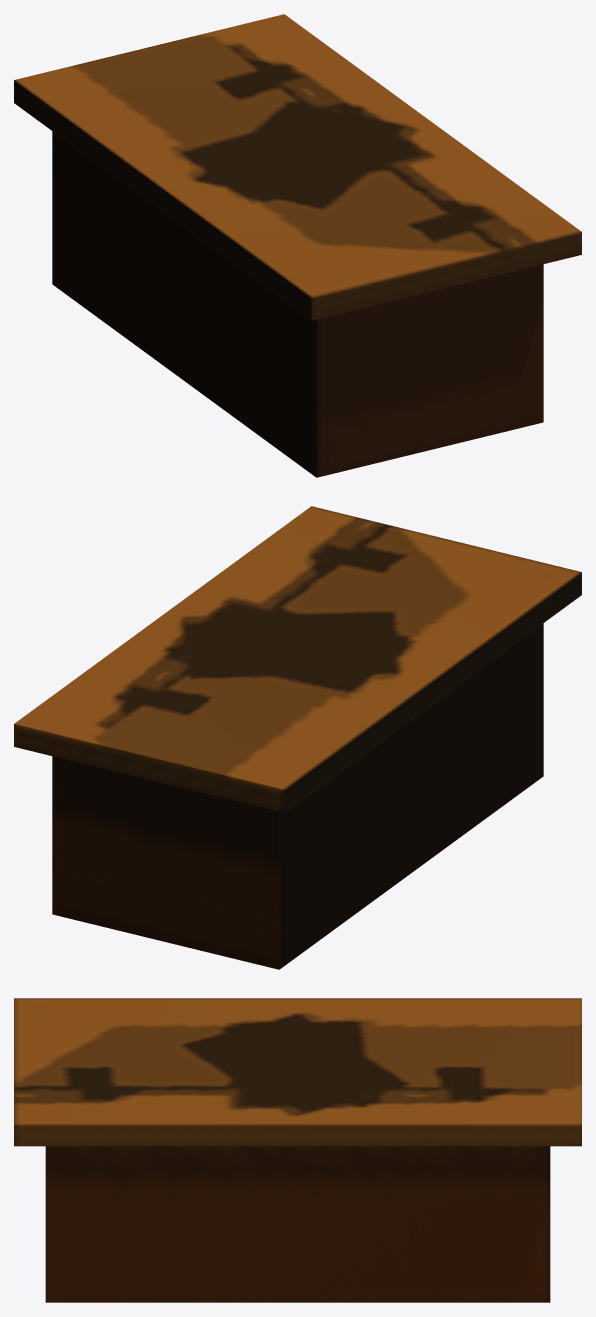
Rendered from Tx_prop_desk_art.fbx.
3 views of the same model, one above another, from view 1: azimuth 30°, elevation 25°; view 2: azimuth 150°, elevation 25°; view 3: azimuth 270°, elevation 25° (orthographic). The views are drawn at different scales.
Visible parts, largest first — view 1: Tx_prop_desk_art; view 2: Tx_prop_desk_art; view 3: Tx_prop_desk_art.
Boxes of the visible parts, x1=… form: Tx_prop_desk_art: x1=14, y1=14, x2=581, y2=477; Tx_prop_desk_art: x1=14, y1=506, x2=581, y2=969; Tx_prop_desk_art: x1=14, y1=998, x2=581, y2=1302.
Bounding box in the file's own units: 5.41 × 3.77 × 10.31.
